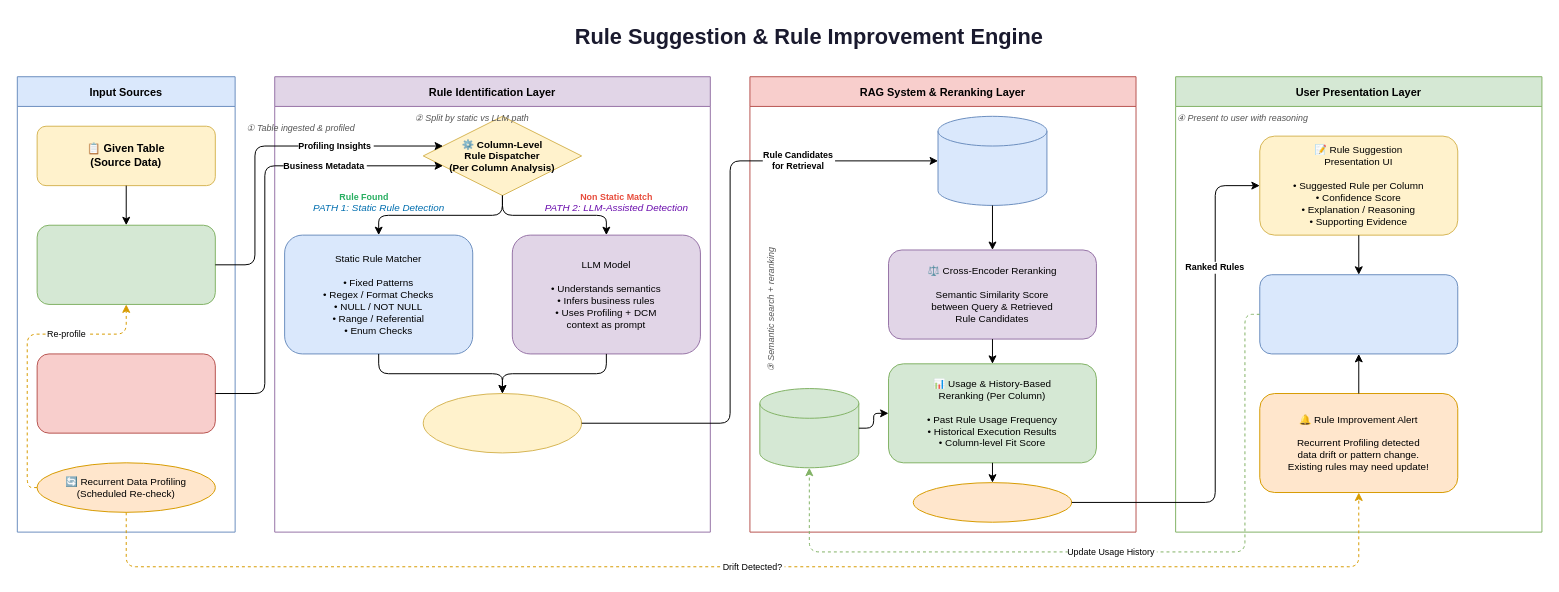
Image size: 1559x592. Some labels were removed from this diagram. Here are the shapes that lost their labels. From the top down, the centre of each, then its label:
At [992,160]: "🗄️ Rule Repository (Vector DB) Embedded Rules, Descriptions & Metadata".
At [125,264]: "🔍 Data Profiling Engine (Statistics, Nulls, Patterns, Distributions, Types)".
At [1358,314]: "👤 User Review & Approval Accept / Reject / Modify Suggested Rules".
At [125,393]: "🗂️ Data Catalog Management (DCM) (Business Metadata, Definitions, Ownership)".
At [502,423]: "Candidate Rule Descriptions".
At [809,428]: "📁 Rule Usage & Execution History Store".
At [992,502]: "🏆 Final Ranked Rule Suggestions".
